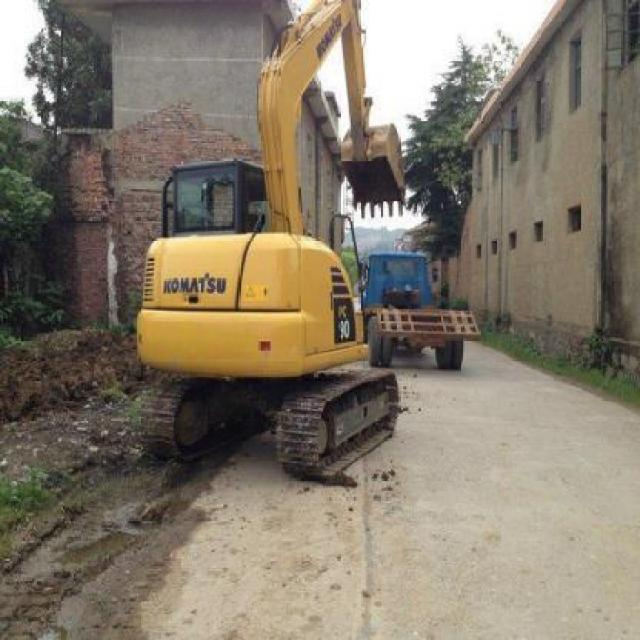Excavator: (123, 0, 405, 485)
